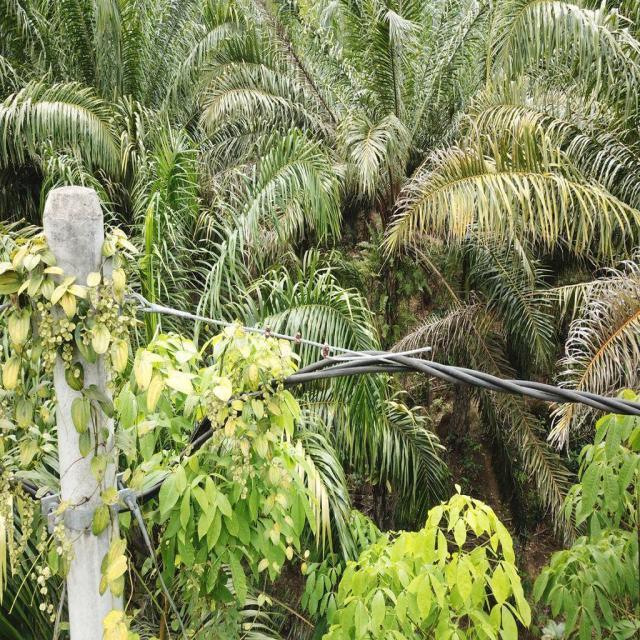critical vegetation: (1, 238, 316, 546)
